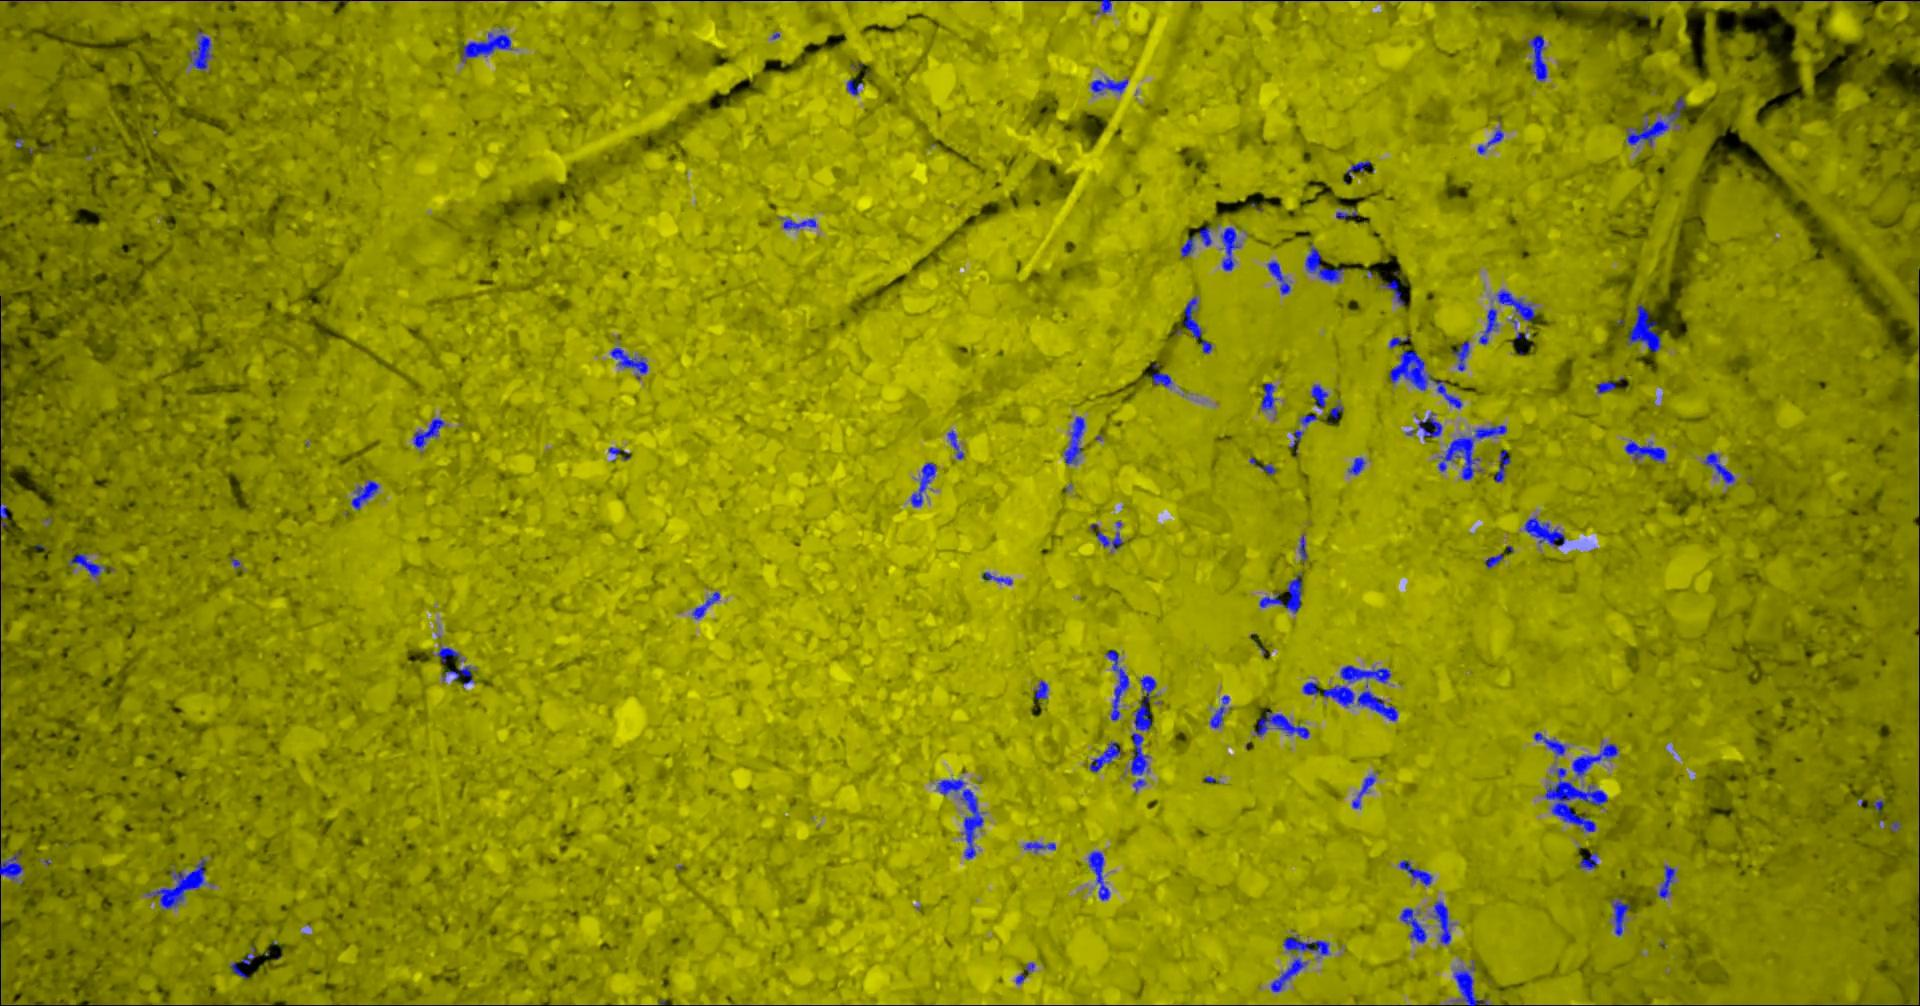ant: (1390, 351, 1464, 408), (938, 779, 985, 859), (1304, 681, 1399, 720), (1440, 424, 1509, 479), (149, 857, 207, 909), (1628, 97, 1688, 145), (460, 29, 513, 61), (1261, 573, 1303, 612), (1107, 649, 1130, 720), (1629, 304, 1663, 351), (1573, 743, 1620, 776), (1305, 244, 1346, 282), (1455, 960, 1490, 1005), (1255, 711, 1310, 738), (1525, 516, 1567, 546), (1272, 956, 1309, 991), (1497, 290, 1537, 321), (612, 347, 649, 379), (912, 462, 938, 506), (1090, 850, 1111, 901), (69, 553, 113, 577), (1091, 741, 1123, 772), (1401, 907, 1429, 942), (1705, 451, 1736, 483), (1065, 417, 1086, 464), (1284, 935, 1330, 955), (1625, 439, 1667, 461), (1341, 666, 1392, 683), (190, 30, 213, 70), (415, 418, 446, 447), (1401, 859, 1434, 885), (1222, 227, 1242, 271), (1529, 34, 1548, 80), (1097, 520, 1125, 550), (1352, 774, 1377, 808), (1185, 296, 1204, 339), (353, 479, 380, 509), (1435, 901, 1454, 942), (693, 591, 721, 619), (1269, 260, 1291, 293), (1535, 732, 1568, 754), (1, 850, 25, 879), (1481, 307, 1500, 344), (443, 666, 475, 687), (1613, 897, 1630, 935), (1418, 412, 1443, 437), (1092, 77, 1129, 94), (1211, 695, 1230, 727), (1479, 130, 1505, 152), (1496, 448, 1512, 481), (1660, 865, 1676, 898), (1385, 279, 1406, 305), (949, 431, 965, 459), (1455, 340, 1470, 370), (439, 647, 466, 663), (1312, 384, 1330, 408), (781, 217, 817, 229), (1262, 384, 1277, 410), (983, 572, 1015, 584), (1347, 161, 1371, 177), (1025, 841, 1057, 852), (1153, 371, 1175, 386), (1, 484, 9, 527), (1182, 235, 1196, 258), (1349, 457, 1368, 474), (848, 77, 865, 95), (1327, 403, 1345, 419), (1581, 852, 1599, 869), (231, 962, 249, 978), (1200, 225, 1213, 246), (1486, 553, 1505, 567), (243, 945, 257, 964), (1390, 335, 1411, 348), (1597, 380, 1617, 392), (1036, 680, 1049, 699), (1291, 429, 1304, 447), (1337, 208, 1359, 218), (1258, 464, 1277, 475), (1302, 414, 1319, 426), (1302, 535, 1309, 561), (1097, 0, 1112, 13), (1203, 340, 1213, 353), (1751, 0, 1804, 1)
